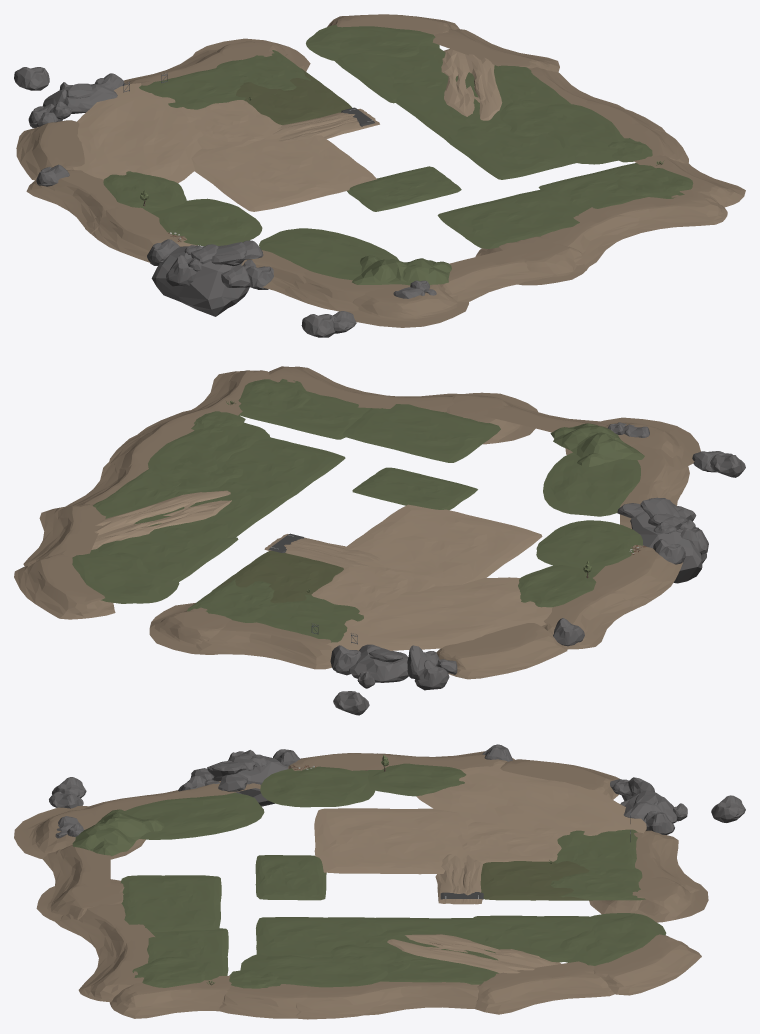
File: Background.glb
3 renders of one model, top to bottom at view 1: azimuth 30°, elevation 25°; view 2: azimuth 150°, elevation 25°; view 3: azimuth 270°, elevation 25°, orthographic. The views are drawn at different scales.
Parts seen in each view (by area): view 1: SM_Env_Grass_Square_01__13_, SM_Env_Grass_Circle_01__6_, SM_Env_Grass_Square_01__10_, SM_Env_Grass_Square_01__7_, SM_Env_Grass_Circle_01__2_, SM_Env_Grass_Circle_01__3_, SM_Env_Beach_01__6_, SM_Env_Grass_Square_01__5_, SM_Env_Grass_Circle_01__8_, SM_Env_Grass_Square_01__17_, SM_Env_Beach_Staight_02__2_, SM_Env_Grass_Square_01__15_ (+36 smaller); view 2: SM_Env_Grass_Square_01__13_, SM_Env_Grass_Circle_01__6_, SM_Env_Grass_Square_01__10_, SM_Env_Grass_Square_01__7_, SM_Env_Grass_Circle_01__2_, SM_Env_Beach_Staight_01__5_, SM_Env_Beach_Staight_01__2_, SM_Env_Beach_Staight_02__7_, SM_Env_Grass_Circle_01__3_, SM_Env_Grass_Square_01__5_, SM_Env_Grass_Circle_01__8_, SM_Env_Grass_Square_01__15_ (+37 smaller); view 3: SM_Env_Grass_Square_01__13_, SM_Env_Grass_Circle_01__6_, SM_Env_Grass_Square_01__10_, SM_Env_Beach_Staight_02__5_, SM_Env_Grass_Circle_01__2_, SM_Env_Grass_Square_01__7_, SM_Env_Grass_Circle_01__3_, SM_Env_Beach_Staight_01__2_, SM_Env_Grass_Square_01__17_, SM_Env_Grass_Square_01__5_, SM_Env_Grass_Circle_01__8_, SM_Env_Beach_Staight_02__3_ (+34 smaller).
Part boxes in pixels (left/top/right/bottom): SM_Env_Grass_Square_01__13_: left=191, top=130, right=376, bottom=211; SM_Env_Grass_Circle_01__6_: left=73, top=83, right=203, bottom=182; SM_Env_Grass_Square_01__10_: left=437, top=189, right=583, bottom=248; SM_Env_Grass_Square_01__7_: left=444, top=124, right=575, bottom=179; SM_Env_Grass_Circle_01__2_: left=259, top=228, right=399, bottom=280; SM_Env_Grass_Circle_01__3_: left=151, top=198, right=262, bottom=246; SM_Env_Beach_01__6_: left=339, top=284, right=468, bottom=327; SM_Env_Grass_Square_01__5_: left=335, top=46, right=457, bottom=103; SM_Env_Grass_Circle_01__8_: left=306, top=24, right=439, bottom=60; SM_Env_Grass_Square_01__17_: left=236, top=68, right=352, bottom=124; SM_Env_Beach_Staight_02__2_: left=605, top=189, right=727, bottom=238; SM_Env_Grass_Square_01__15_: left=173, top=100, right=289, bottom=149; SM_Env_Grass_Square_01__13_: left=344, top=504, right=542, bottom=586; SM_Env_Grass_Circle_01__6_: left=326, top=577, right=552, bottom=650; SM_Env_Grass_Square_01__10_: left=343, top=404, right=500, bottom=462; SM_Env_Grass_Square_01__7_: left=214, top=437, right=345, bottom=500; SM_Env_Grass_Circle_01__2_: left=543, top=452, right=640, bottom=516; SM_Env_Beach_Staight_01__5_: left=436, top=623, right=567, bottom=679; SM_Env_Beach_Staight_01__2_: left=14, top=554, right=115, bottom=619; SM_Env_Beach_Staight_02__7_: left=196, top=620, right=334, bottom=669; SM_Env_Grass_Circle_01__3_: left=536, top=520, right=642, bottom=572; SM_Env_Grass_Square_01__5_: left=97, top=525, right=238, bottom=581; SM_Env_Grass_Circle_01__8_: left=72, top=548, right=179, bottom=603; SM_Env_Grass_Square_01__15_: left=311, top=561, right=435, bottom=615; SM_Env_Grass_Square_01__13_: left=314, top=808, right=474, bottom=874; SM_Env_Grass_Circle_01__6_: left=416, top=764, right=646, bottom=836; SM_Env_Grass_Square_01__10_: left=120, top=875, right=221, bottom=932; SM_Env_Beach_Staight_02__5_: left=474, top=961, right=614, bottom=1014; SM_Env_Grass_Circle_01__2_: left=125, top=792, right=264, bottom=839; SM_Env_Grass_Square_01__7_: left=256, top=917, right=386, bottom=957; SM_Env_Grass_Circle_01__3_: left=260, top=766, right=375, bottom=807; SM_Env_Beach_Staight_01__2_: left=593, top=934, right=701, bottom=995; SM_Env_Grass_Square_01__17_: left=480, top=861, right=592, bottom=900; SM_Env_Grass_Square_01__5_: left=473, top=915, right=596, bottom=962; SM_Env_Grass_Circle_01__8_: left=560, top=913, right=666, bottom=965; SM_Env_Beach_Staight_02__3_: left=110, top=975, right=231, bottom=1018.
Size of the model in its own units: 171 by 17.38 by 197.
5 materials, 5 textured.
